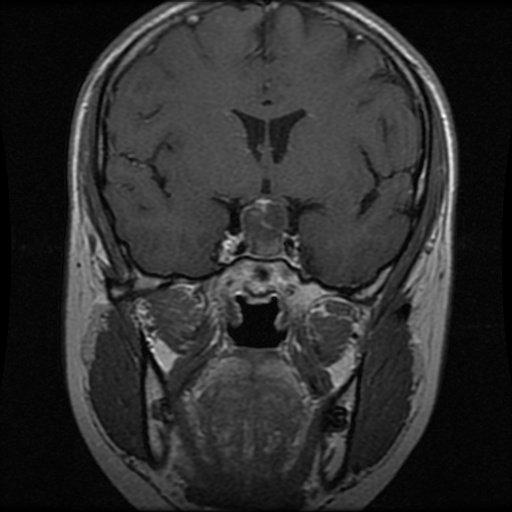pituitary: (241, 195, 287, 256)
